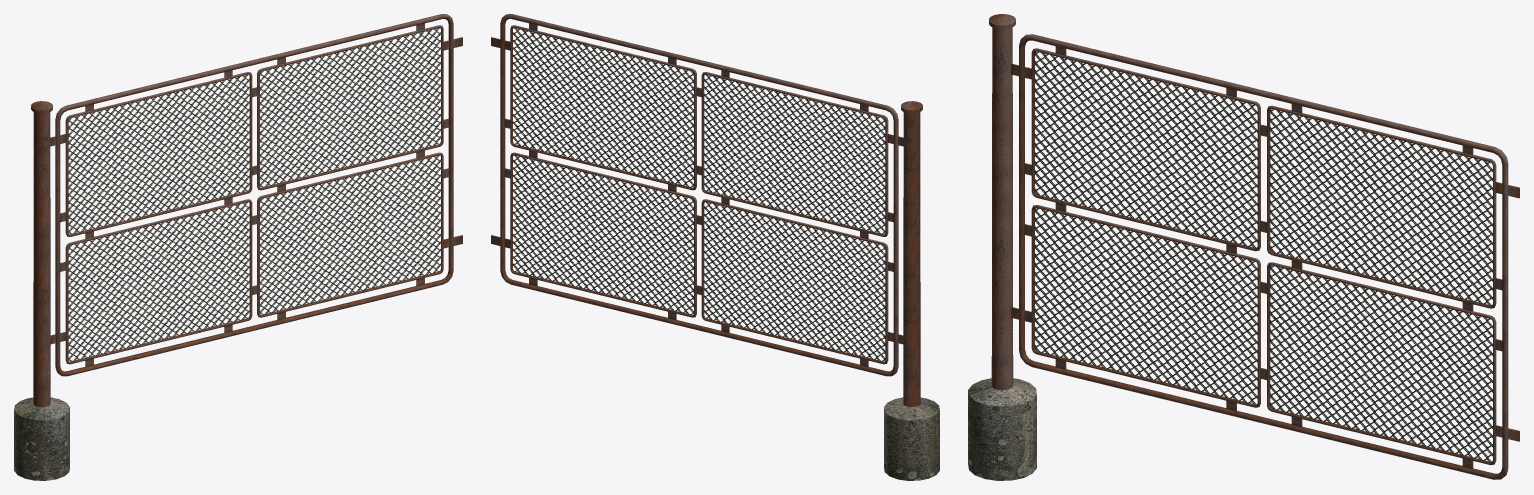
File: WiredFenceShort.FBX
3 renders of one model, left to right at view 1: azimuth 30°, elevation 25°; view 2: azimuth 150°, elevation 25°; view 3: azimuth 330°, elevation 25°, orthographic. The views are drawn at different scales.
Visible parts, largest first — view 1: WiredFenceShort; view 2: WiredFenceShort; view 3: WiredFenceShort.
Part boxes in pixels (x1,y1,x2,y2): WiredFenceShort: (14,14,462,480); WiredFenceShort: (491,14,939,480); WiredFenceShort: (968,14,1519,480).
Size of the model in its own units: 45.27 by 35.62 by 4.97.
